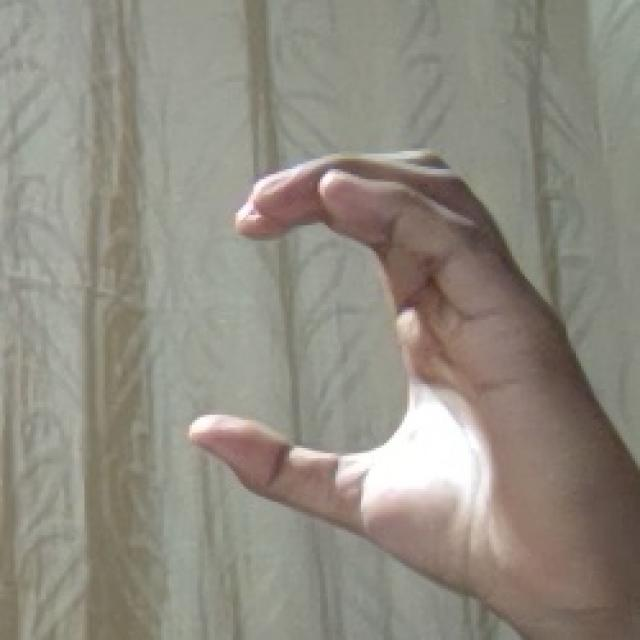Alphabet-C: (189, 151, 640, 640)
